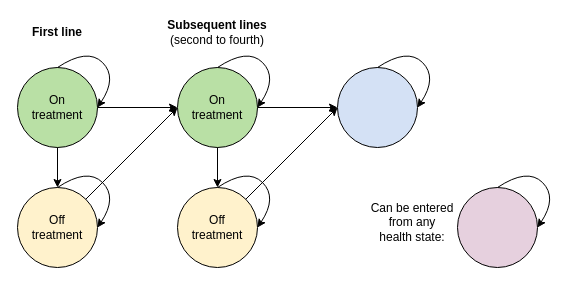
The diagram is 568 pixels wide and 285 high, and some of its shapes have lost their labels. The shapes that lost their labels are listed below. From the top down, each one's centre as x and y in pixels, then its label:
the point at 377,107: Best supportive care
the point at 497,227: Death
